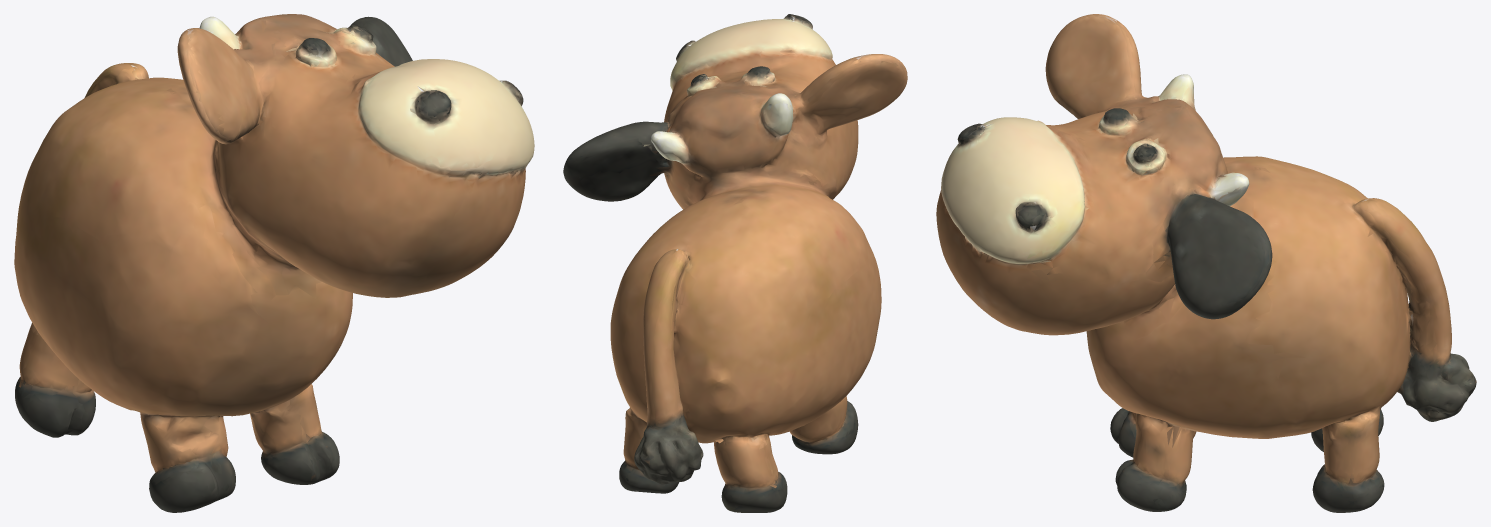
File: ushi02.glb
3 renders of one model, left to right at view 1: azimuth 30°, elevation 25°; view 2: azimuth 150°, elevation 25°; view 3: azimuth 270°, elevation 25°, orthographic. The views are drawn at different scales.
Visible parts, largest first — view 1: Textured_0; view 2: Textured_0; view 3: Textured_0.
Part boxes in pixels (x1,y1,x2,y2): Textured_0: (14, 14, 534, 512); Textured_0: (563, 14, 907, 512); Textured_0: (936, 14, 1476, 512).
Bounding box in the file's own units: 4.9 × 6.48 × 7.37.
Materials: 1 (1 with a texture image).
